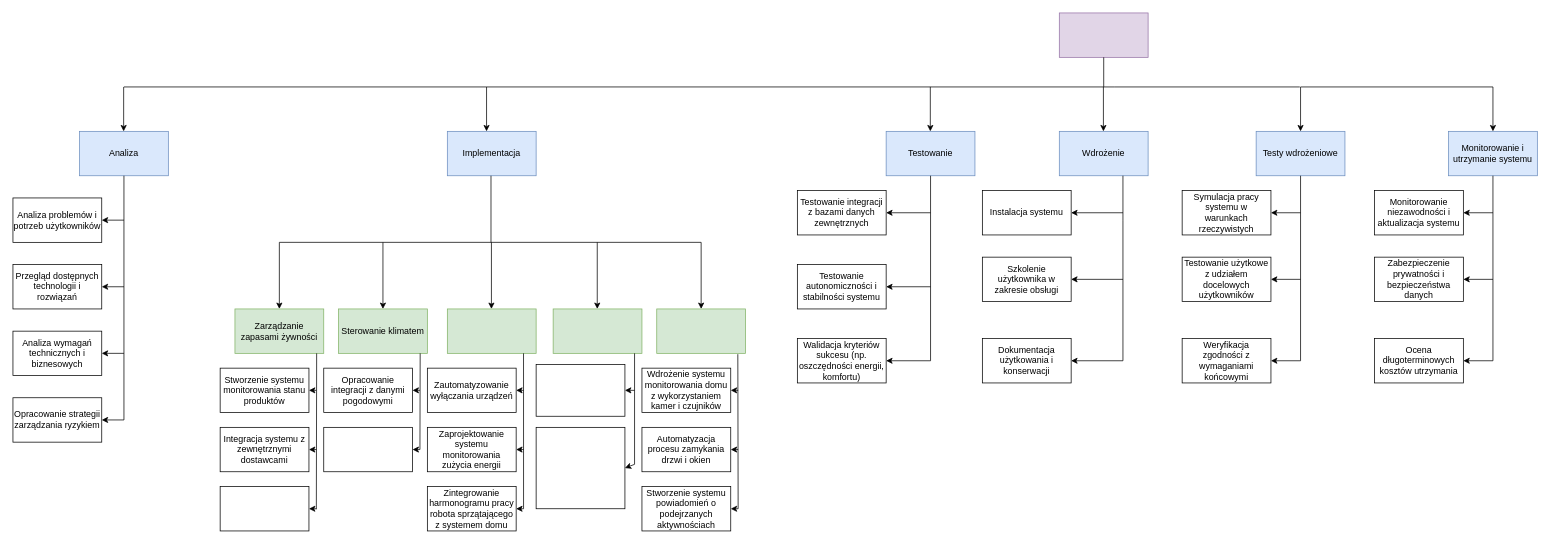
The diagram is 1550 pixels wide and 544 high, and some of its shapes have lost their labels. Here are the shapes that lost their labels. From the top down, the box of each, then its label:
(1059, 12, 1148, 57): Inteligętny Dom
(447, 308, 536, 353): Oszczędość energii
(552, 308, 642, 353): Zarządzanie oświetleniem i zasłonami
(656, 308, 746, 353): System bezpieczeństwa
(535, 364, 625, 416): Stworzenie programów dostosowanych do pory dnia i preferencji użytkownika
(323, 427, 413, 472): Stworzenie algorytmów regulacji temperatury i jakości powietrza
(535, 427, 625, 509): Opracowanie algorytmów zmieniających oświetlenie w zależności od nastroju
(219, 486, 309, 531): Automatyzacja procesu zamawiania brakujących artykułów
